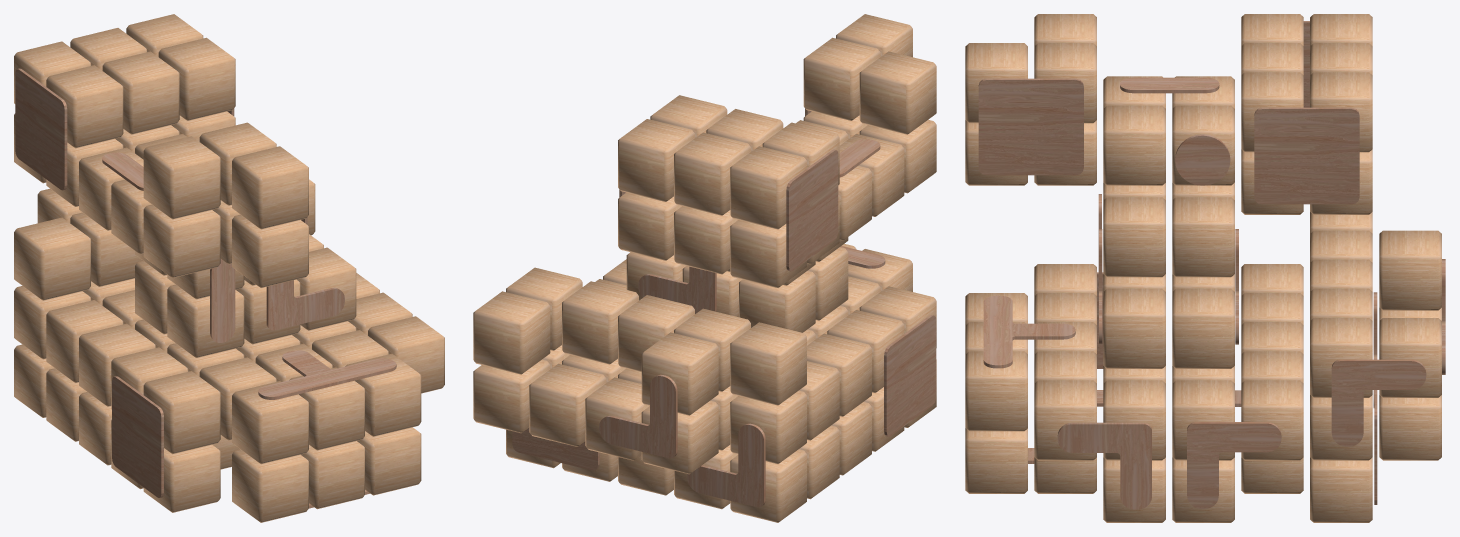
File: level_99.fbx
The picture shows the model from 3 angles, left to right: view 1: azimuth 30°, elevation 25°; view 2: azimuth 150°, elevation 25°; view 3: azimuth 270°, elevation 25°; orthographic projection. The views are drawn at different scales.
Visible parts, largest first — view 1: Cube.304, Cube.227, Cube.298, obj_obs_square.005, Cube.102, obj_obs_square.004, Cube.108, Cube.255, Cube.325, Cube.053, Cube.249, Cube.326 (+45 smaller); view 2: Cube.238, Cube.304, Cube.227, obj_obs_square.004, obj_obs_square.005, Cube.332, Cube.235, Cube.305, Cube.181, Cube.333, Cube.334, Cube.230 (+45 smaller); view 3: obj_obs_square.001, obj_obs_square.002, Cube.235, Cube.215, Cube.263, Cube.222, Cube.167, Cube.174, obj_obs_L.008, Cube.104, obj_obs_L.001, obj_obs_L.002 (+54 smaller).
Boxes of the visible parts, box(x1,y1,x2,y2) form: Cube.304: box(143, 136, 220, 219); Cube.227: box(14, 217, 90, 300); Cube.298: box(232, 146, 308, 229); obj_obs_square.005: box(15, 68, 67, 190); Cube.102: box(232, 381, 308, 464); obj_obs_square.004: box(112, 376, 163, 497); Cube.108: box(143, 371, 220, 454); Cube.255: box(143, 204, 220, 277); Cube.325: box(46, 65, 123, 148); Cube.053: box(232, 449, 308, 522); Cube.249: box(232, 214, 308, 287); Cube.326: box(102, 51, 179, 134); Cube.238: box(473, 291, 550, 374); Cube.304: box(859, 51, 936, 134); Cube.227: box(730, 322, 806, 405); obj_obs_square.004: box(884, 315, 936, 436); obj_obs_square.005: box(786, 149, 838, 271); Cube.332: box(730, 146, 806, 229); Cube.235: box(641, 332, 718, 415); Cube.305: box(803, 37, 880, 120); Cube.181: box(529, 363, 606, 446); Cube.333: box(674, 132, 750, 215); Cube.334: box(618, 119, 694, 201); Cube.230: box(562, 281, 638, 364); obj_obs_square.001: box(978, 78, 1083, 175); obj_obs_square.002: box(1254, 107, 1359, 204); Cube.235: box(1379, 230, 1441, 310); Cube.215: box(1103, 197, 1165, 277); Cube.263: box(1103, 105, 1165, 185); Cube.222: box(1172, 197, 1234, 277); Cube.167: box(1103, 288, 1165, 368); Cube.174: box(1172, 288, 1234, 368); obj_obs_L.008: box(1331, 359, 1426, 446); Cube.104: box(965, 351, 1027, 431); obj_obs_L.001: box(1057, 422, 1151, 509); obj_obs_L.002: box(1187, 422, 1281, 509).
Size of the model in its own units: 11.09 by 13.15 by 15.32.
